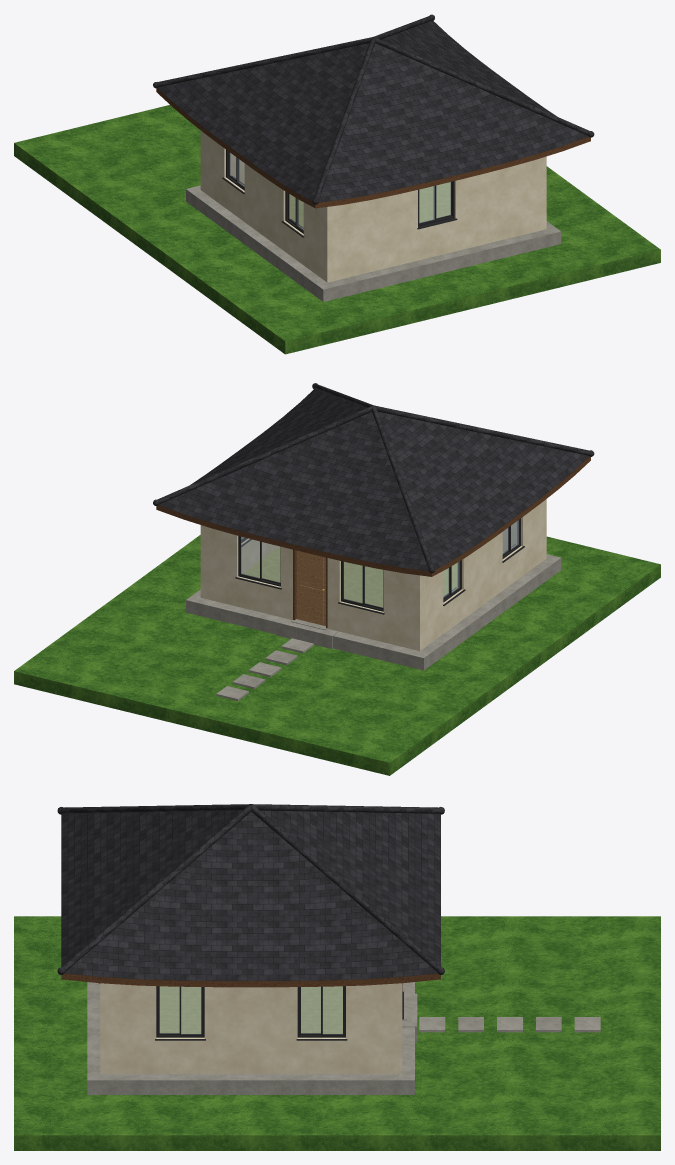
File: b_jp_tea_room.gltf
3 views of the same model, one above another, from view 1: azimuth 30°, elevation 25°; view 2: azimuth 150°, elevation 25°; view 3: azimuth 270°, elevation 25° (orthographic). The views are drawn at different scales.
Visible parts, largest first — view 1: S_jp_tea_room; view 2: S_jp_tea_room, D_jp_tea_room_F1_S2_Door0; view 3: S_jp_tea_room.
Boxes of the visible parts, x1,y1,x2,y2 form: S_jp_tea_room: (14,14,660,354); S_jp_tea_room: (14,383,660,775); D_jp_tea_room_F1_S2_Door0: (296,550,325,625); S_jp_tea_room: (14,804,660,1150).
Bounding box in the file's own units: 12 × 6.06 × 15.
15 materials, 9 textured.
